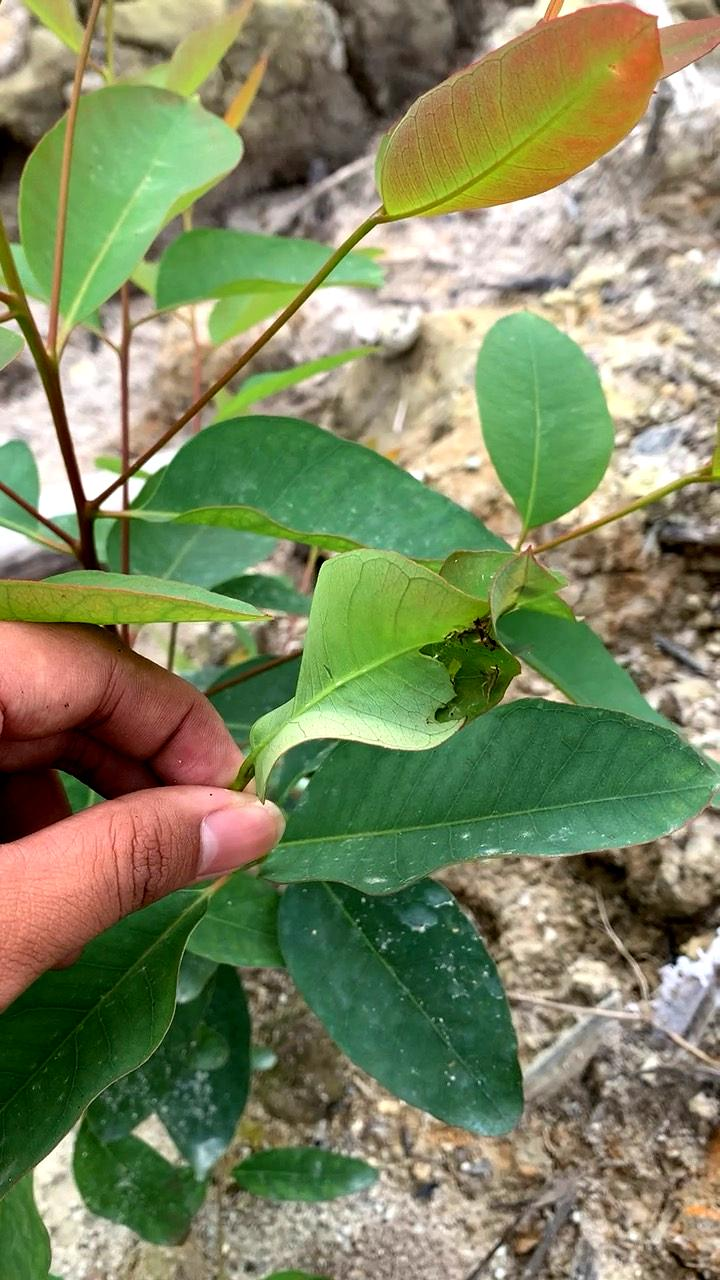Leaf Roller - Leaf: (181, 531, 563, 870)
